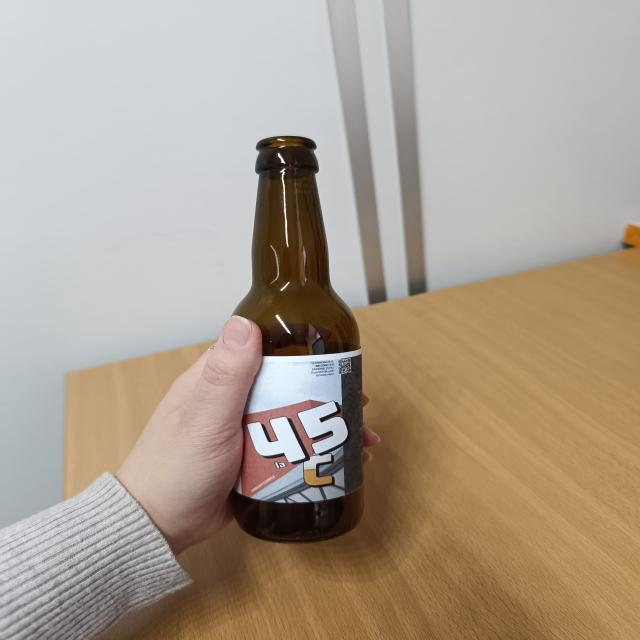Bottle: (234, 130, 366, 541)
Label: (232, 351, 360, 505)
